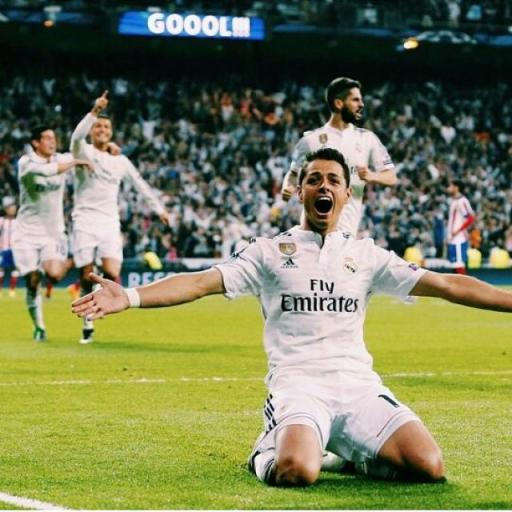Adidas: (278, 256, 300, 270)
Emirates: (278, 278, 362, 315)
